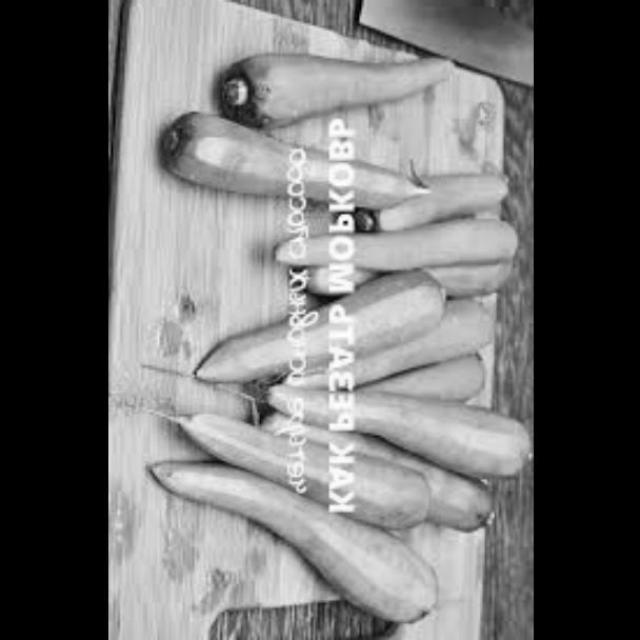ca rot: (145, 445, 440, 627), (162, 399, 440, 544), (143, 104, 432, 233), (238, 402, 498, 542), (262, 361, 534, 487), (192, 279, 461, 388), (196, 31, 476, 127), (279, 284, 496, 404), (274, 190, 534, 288), (350, 155, 524, 230)
